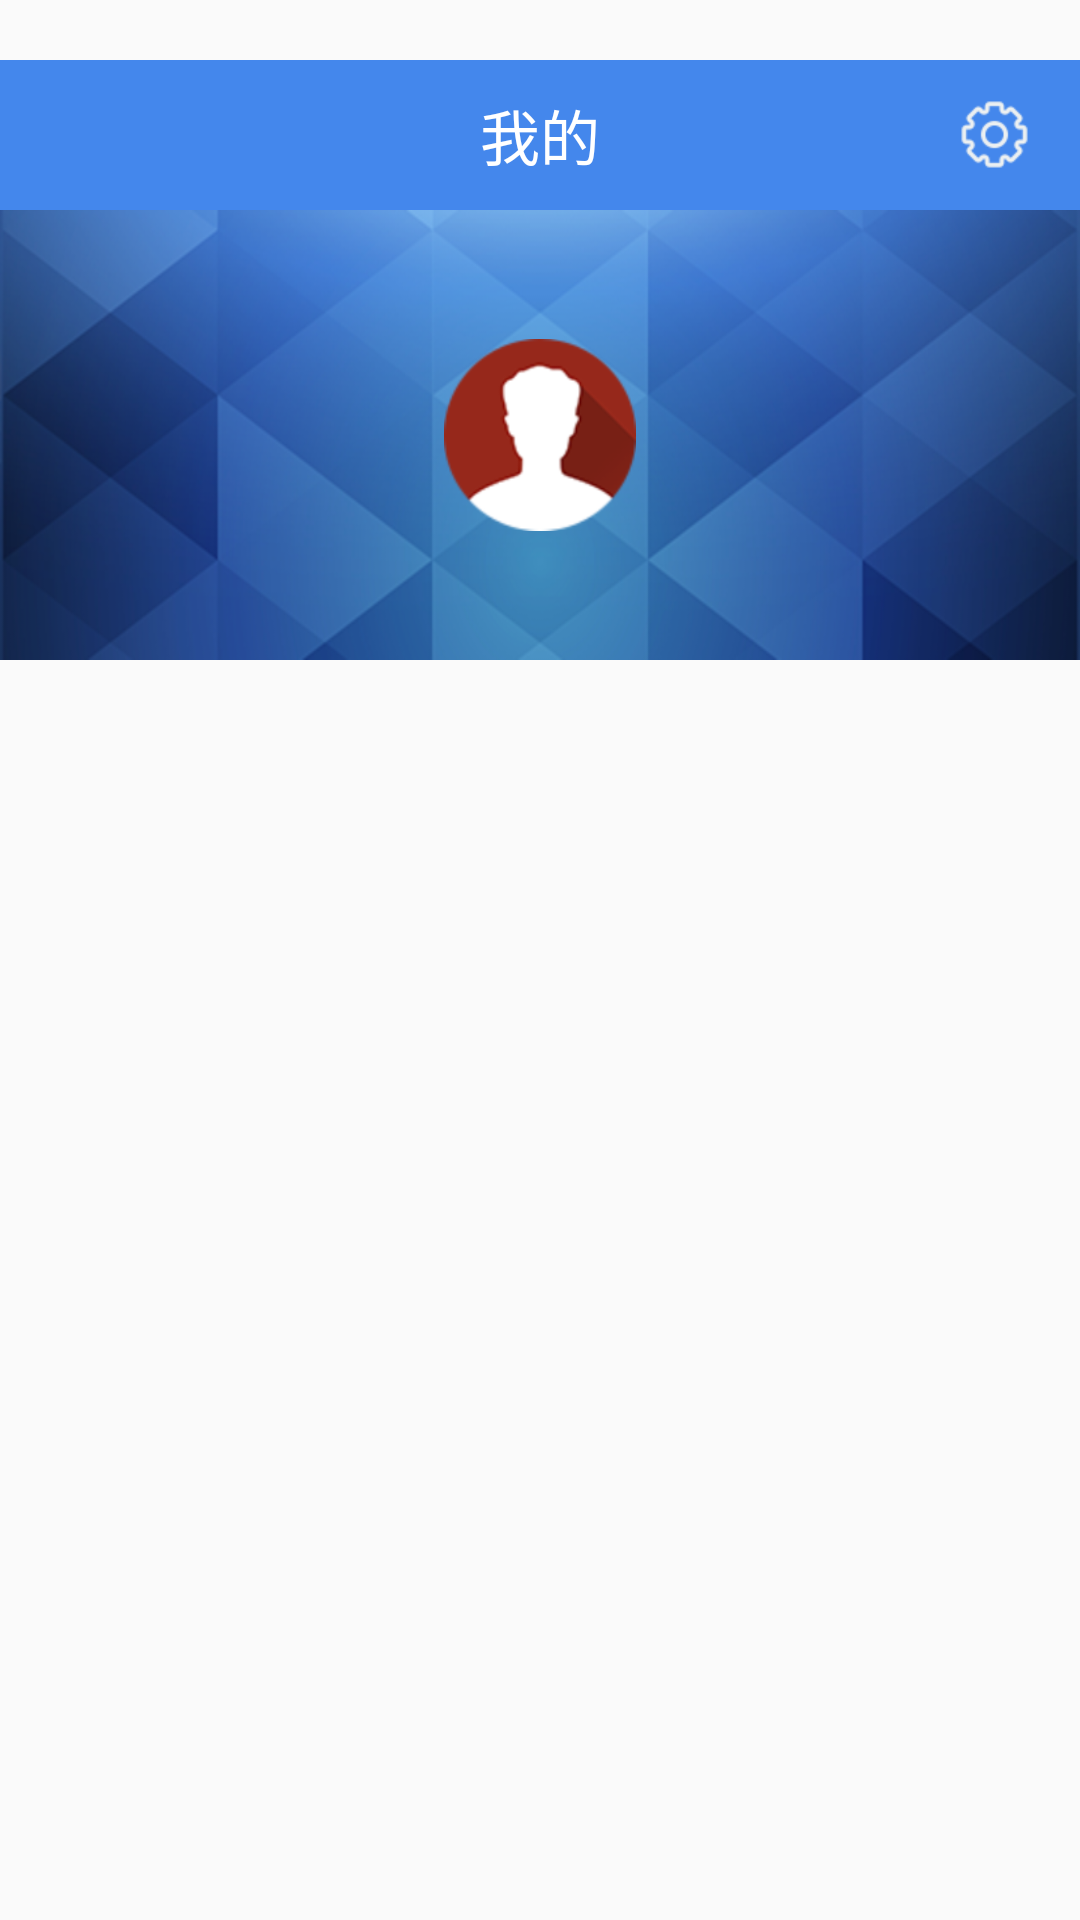

Screen size 1080 × 1920. Icon name, then its center in pixels as point (x, y):
settings: point (994, 134)
userimg: point (540, 435)
